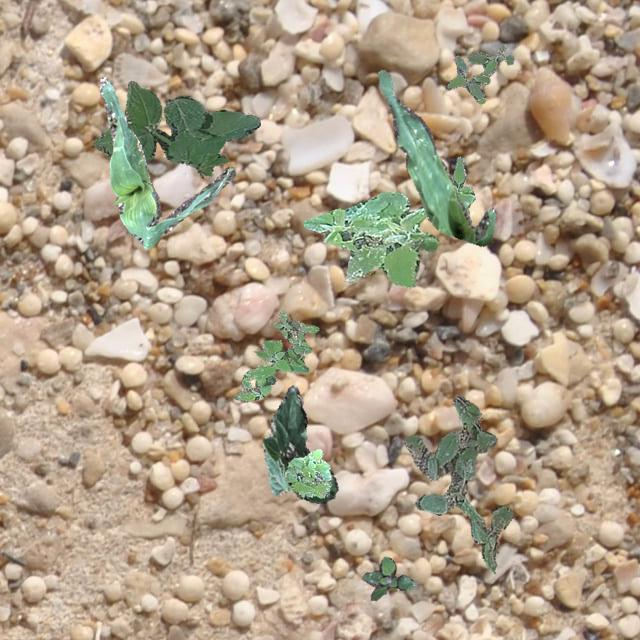crop: (98, 75, 234, 248), (376, 68, 496, 245), (262, 383, 336, 502)
weed: (402, 394, 512, 570), (302, 188, 474, 288), (92, 80, 258, 174), (232, 308, 318, 401), (444, 44, 512, 102), (362, 556, 414, 600), (284, 449, 329, 497), (452, 156, 472, 192)
